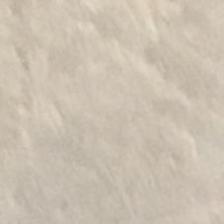Non_Crack: (28, 38, 218, 183)
